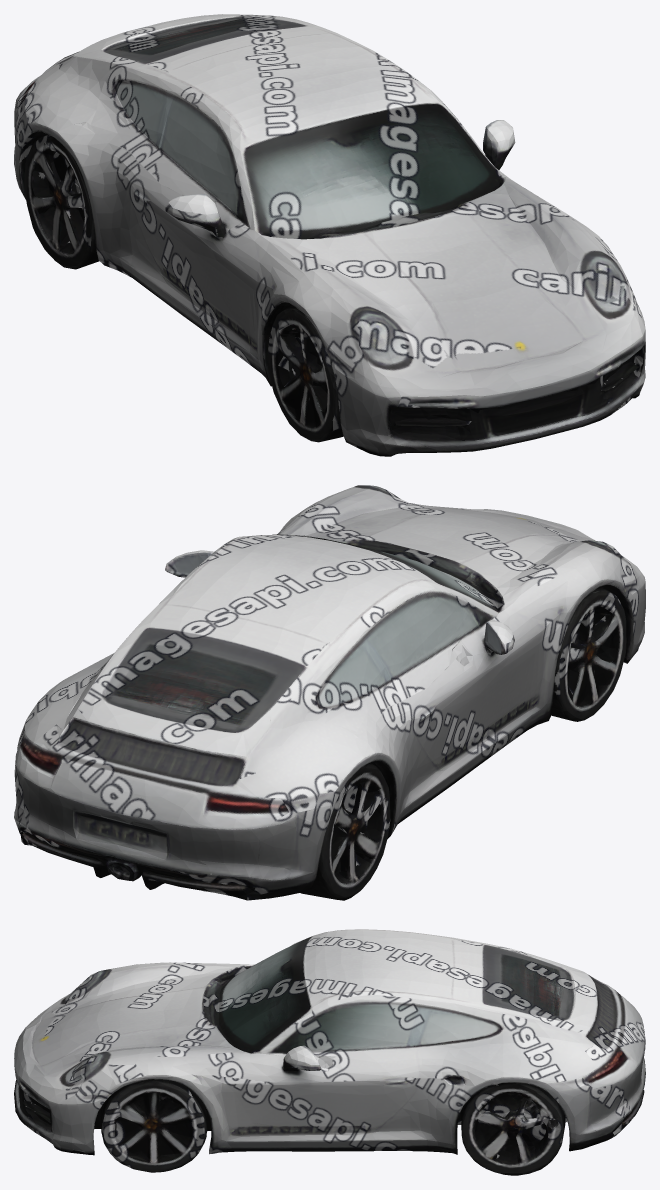
The model's file is vehicle_porsche.glb.
3 views of the same model, one above another, from view 1: azimuth 30°, elevation 25°; view 2: azimuth 150°, elevation 25°; view 3: azimuth 270°, elevation 25° (orthographic). The views are drawn at different scales.
Visible parts, largest first — view 1: world; view 2: world; view 3: world.
Part boxes in pixels (x1,y1,x2,y2): world: [14, 14, 645, 456]; world: [14, 485, 645, 900]; world: [14, 929, 645, 1175].
Size of the model in its own units: 0.4653 by 0.2898 by 0.999.
1 material, 1 textured.
